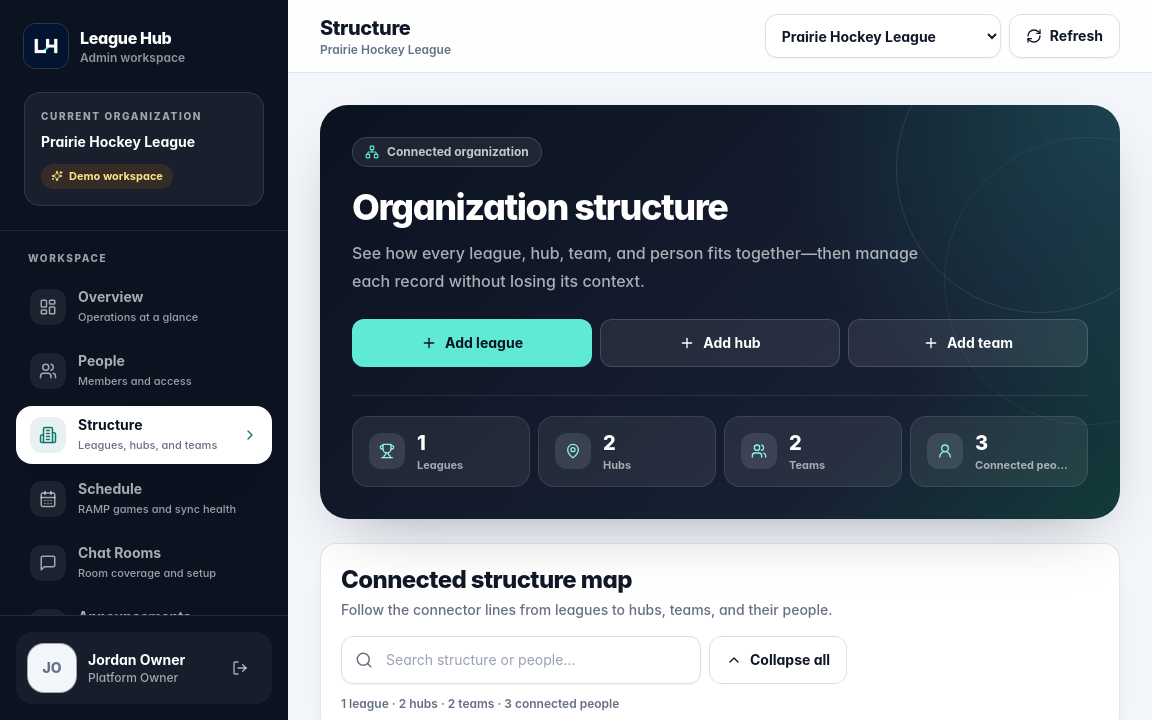
Test: AdminApp operations shell › explains automatic General chat creation in hub and team drawers
Expected: the heading "Structure" is shown, x1=320 y1=16 x2=410 y2=40
Click the button "Add hub" at (720, 343), box x1=600 y1=319 x2=840 y2=367
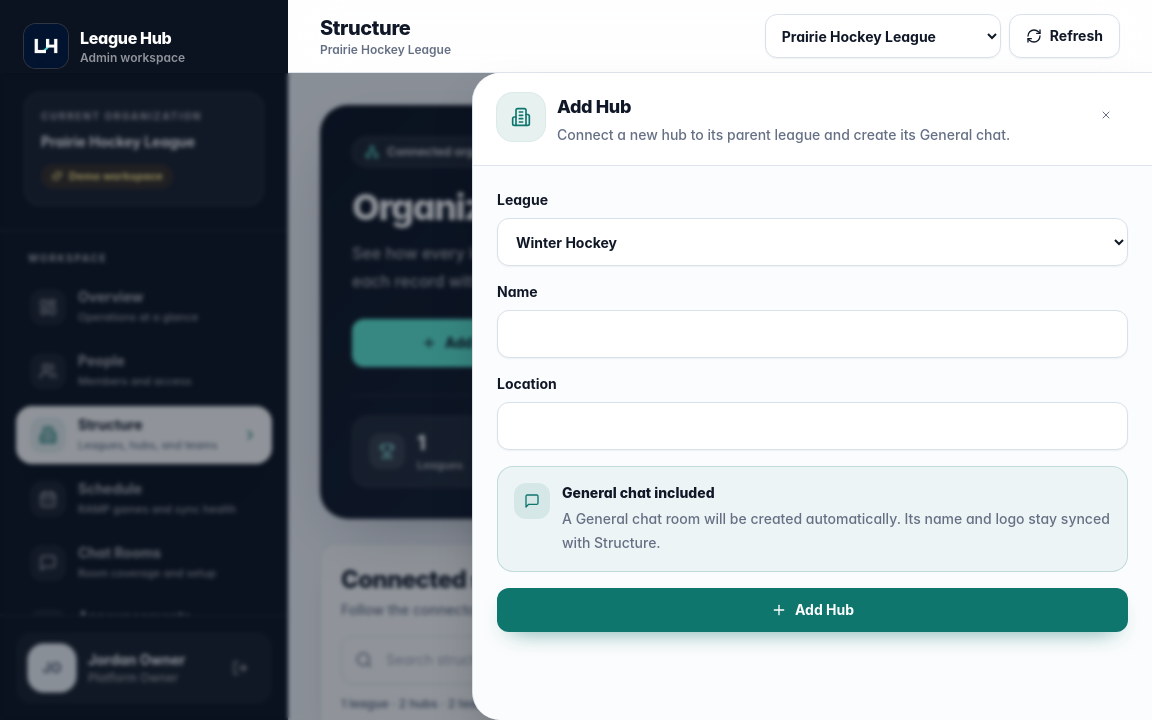
Expected: the element that starts with "General chat included" is shown, x1=497 y1=466 x2=1128 y2=572
Expected: the text "name and logo stay synced with Structure" is shown, x1=562 y1=510 x2=1110 y2=551
Click the button named "Close drawer" at (1106, 115), box x1=1084 y1=93 x2=1128 y2=137
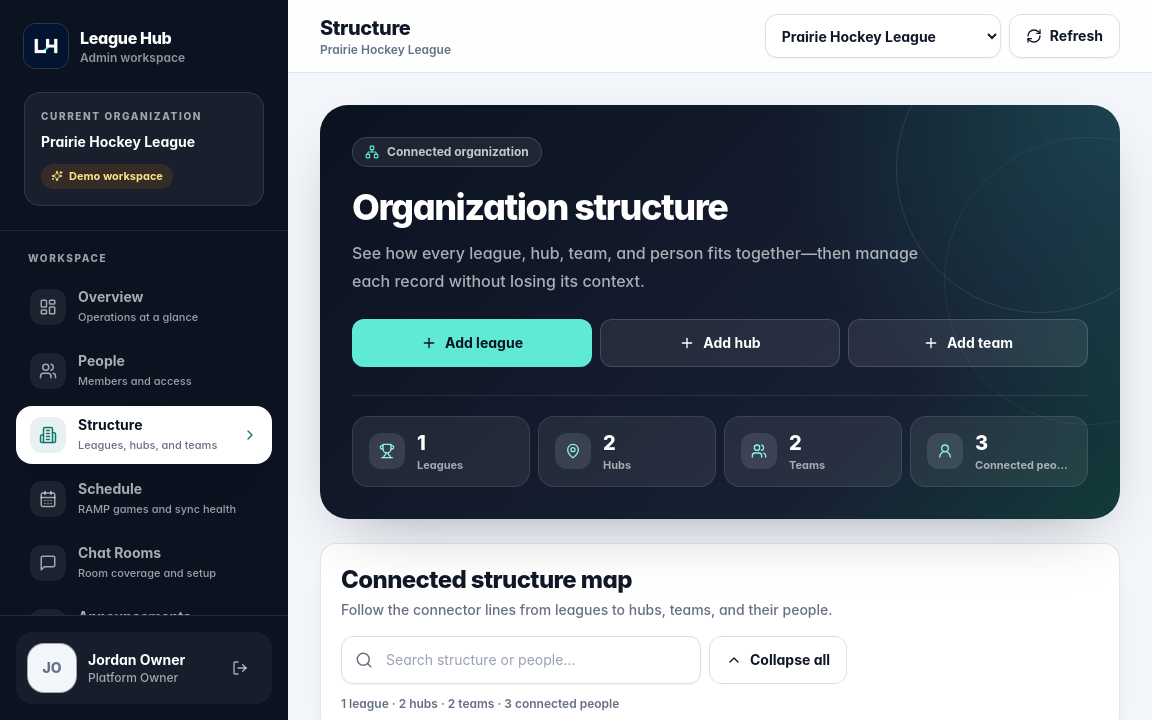
Click the button "Add team" at (968, 343), box x1=848 y1=319 x2=1088 y2=367
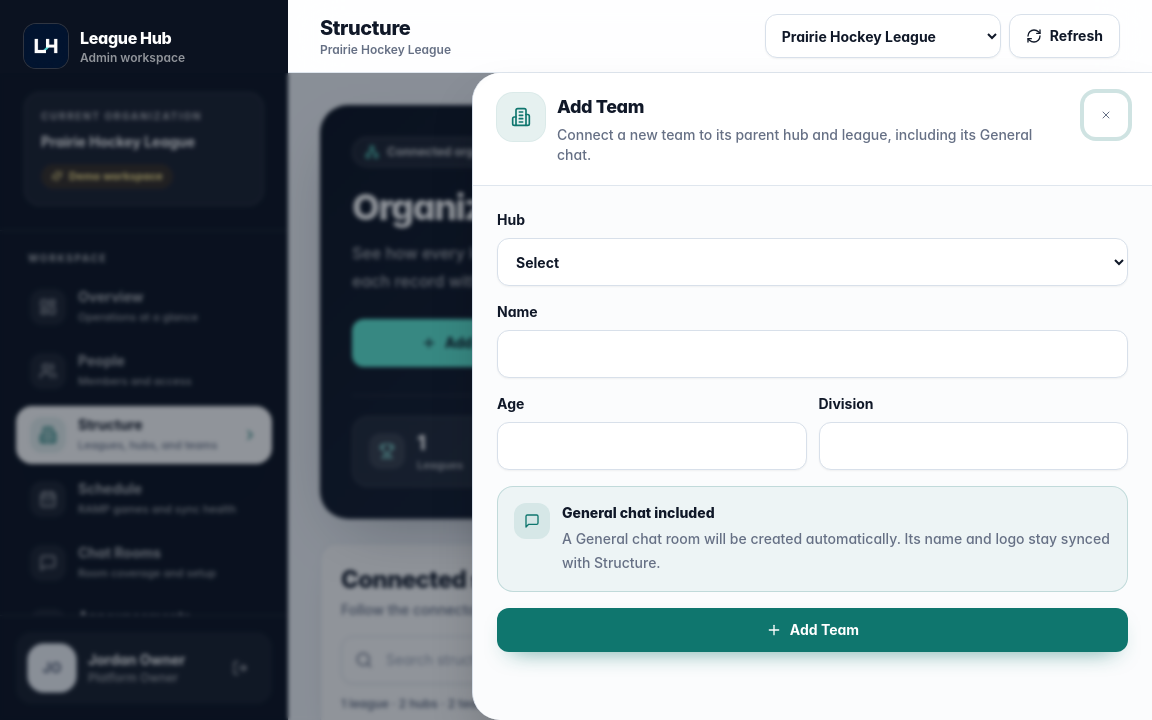
Expected: the element that starts with "General chat included" is shown, x1=497 y1=486 x2=1128 y2=592
Expected: the text "General chat room will be created automatically" is shown, x1=562 y1=530 x2=1110 y2=571
